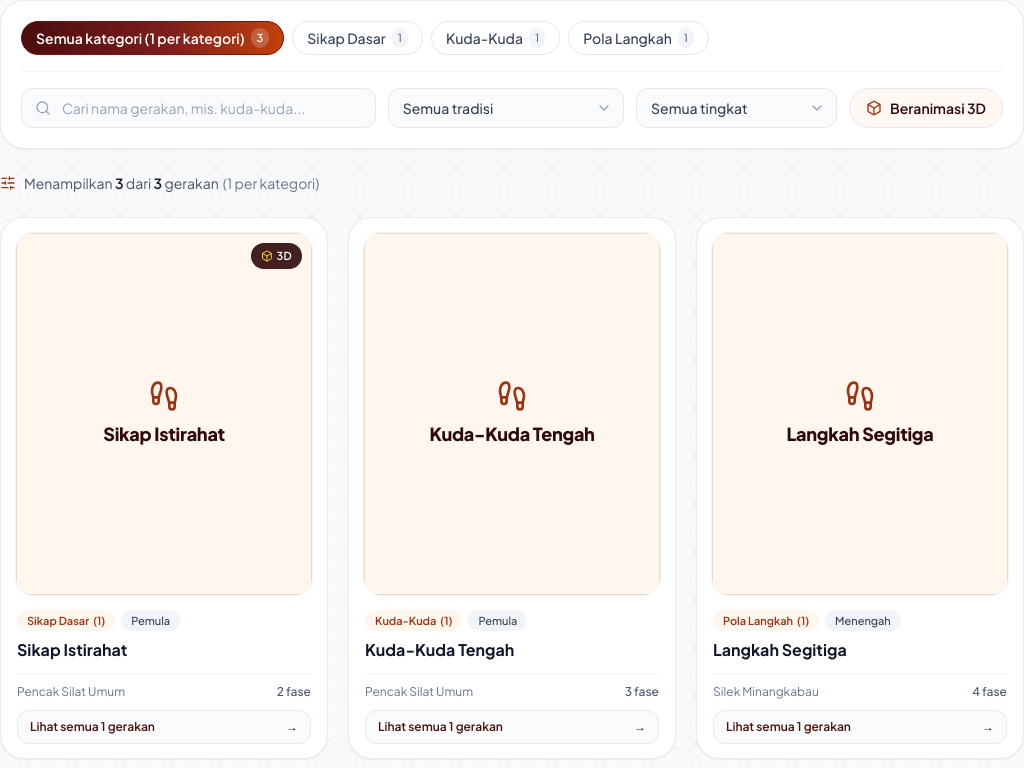
Test: LibraryCatalog › mendukung pencarian nama/alias, pemilih tradisi & tingkat, serta tombol Beranimasi 3D
Click the button "Beranimasi 3D" at point(926, 108), box [849,88,1003,128]
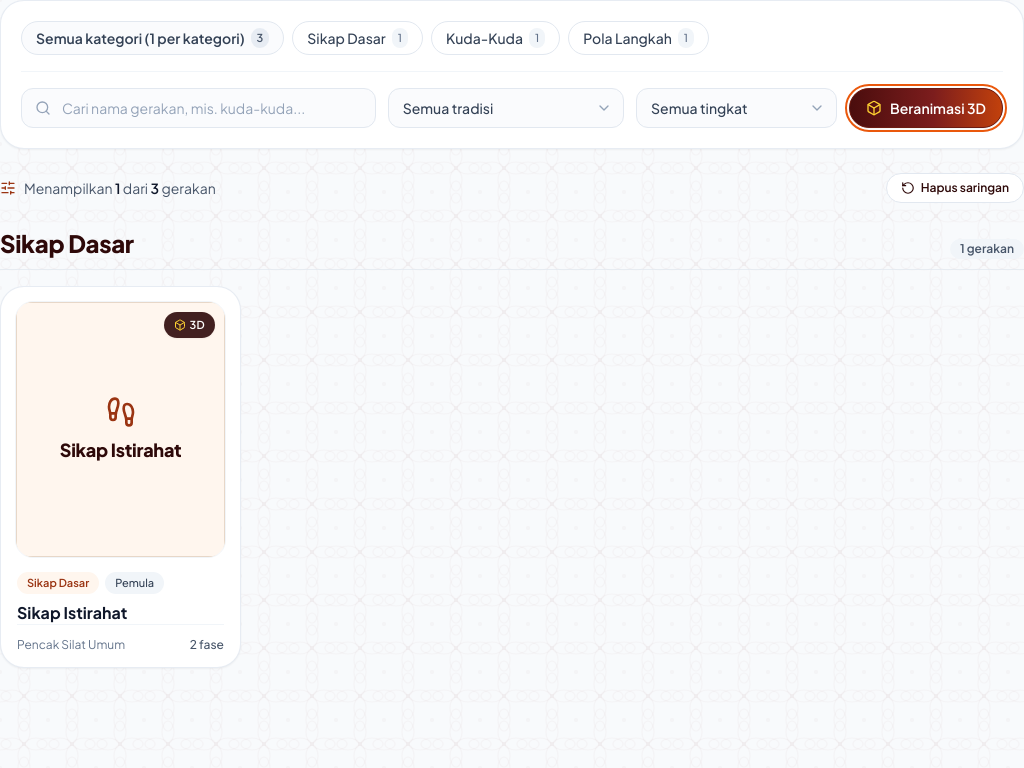
Check: the link "Sikap Istirahat" is shown, box [17,602,127,623]
Check: the text "Menampilkan 1 dari 3 gerakan" is shown, box [24,178,216,198]
Click the button "Beranimasi 3D" at point(926, 108), box [849,88,1003,128]
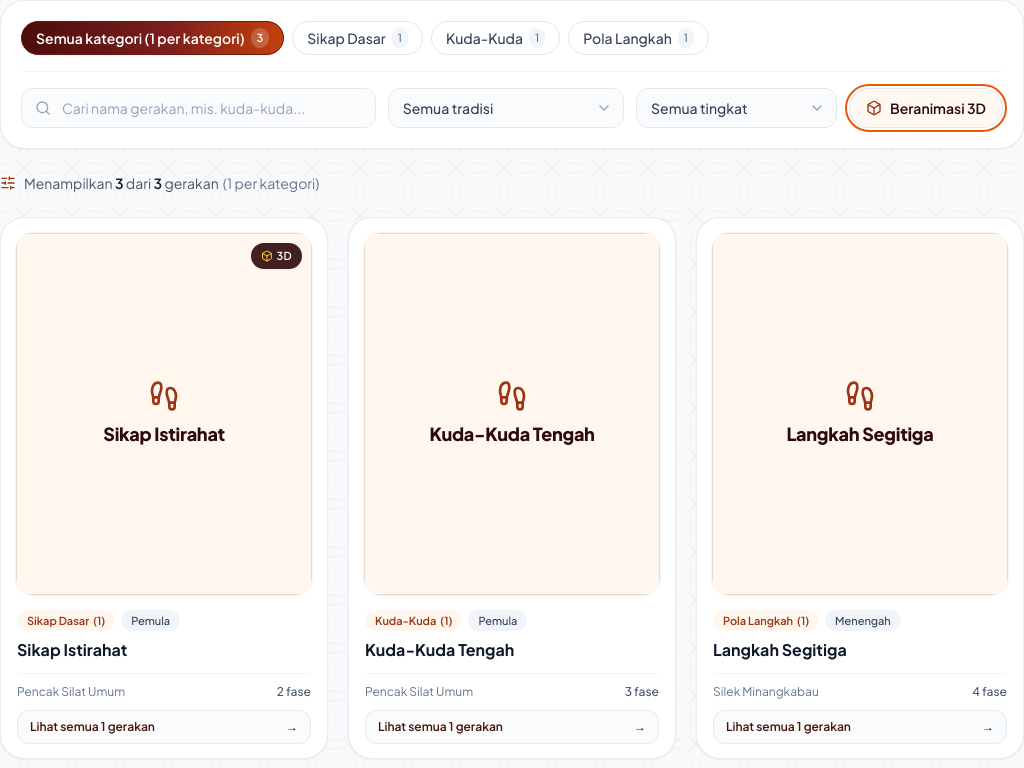
Select "Silek Minangkabau" in the 1st dropdown named "Tradisi" at point(506, 108), box [388,88,624,128]
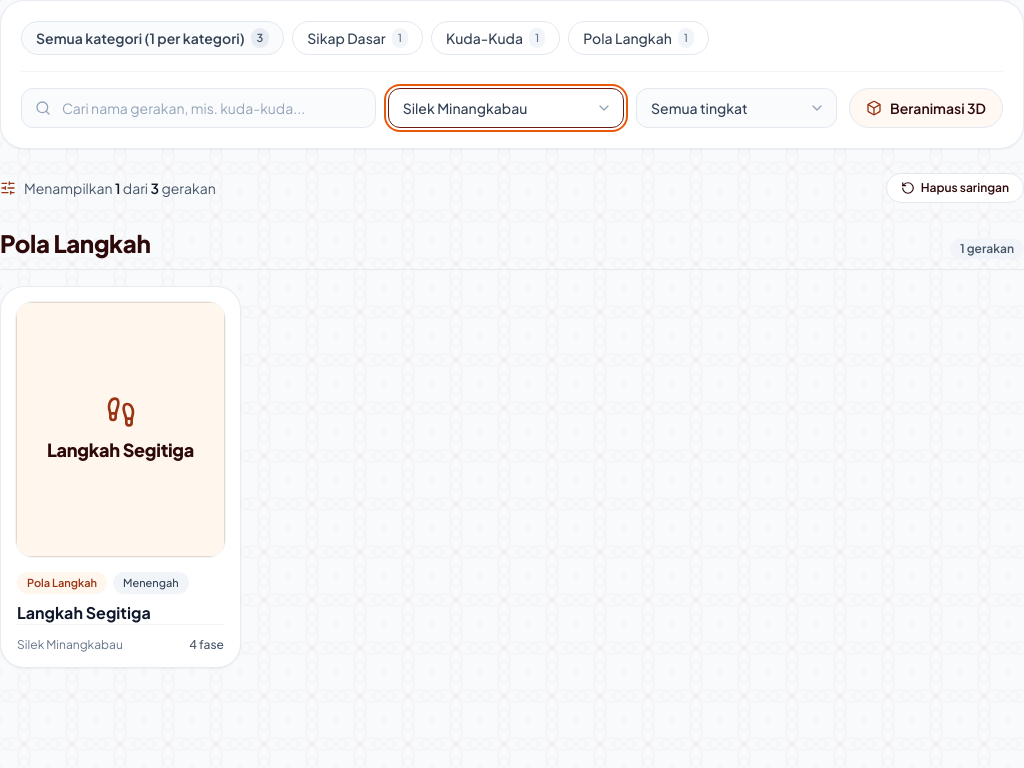
Check: the link "Langkah Segitiga" is shown, box [17,602,151,623]
Check: the text "Menampilkan 1 dari 3 gerakan" is shown, box [24,178,216,198]
Select "Lanjut" in the 2nd dropdown named "Tingkat" at point(736, 108), box [636,88,837,128]
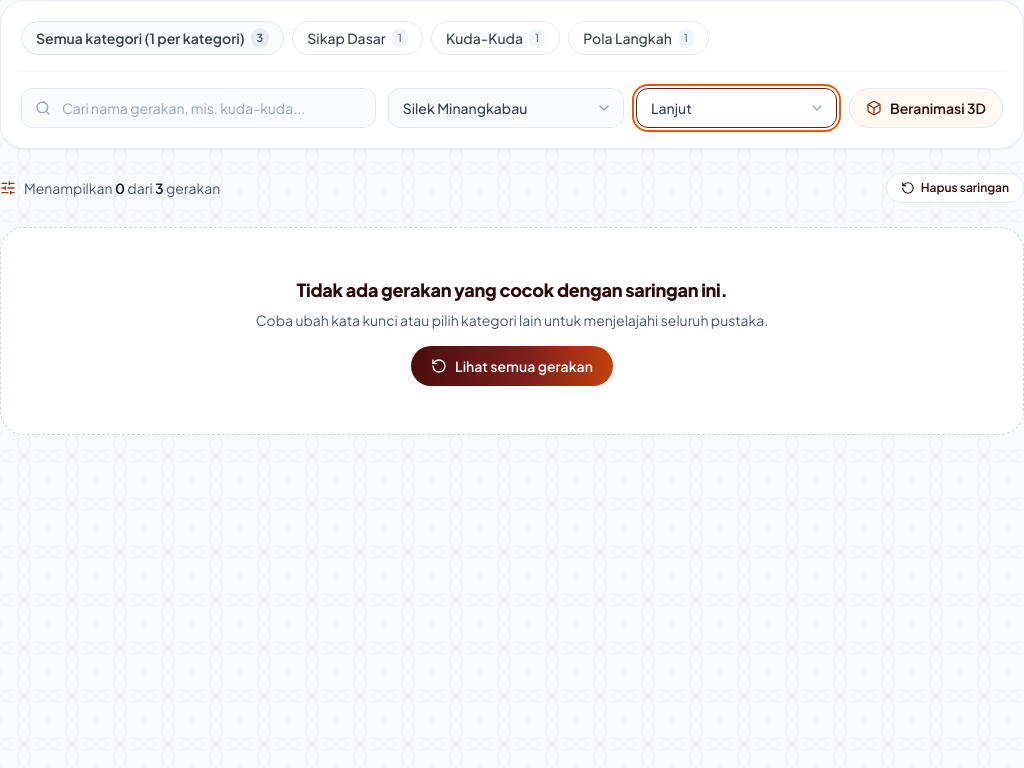
Check: the text "Tidak ada gerakan yang cocok dengan saringan ini." is shown, box [296,278,728,301]
